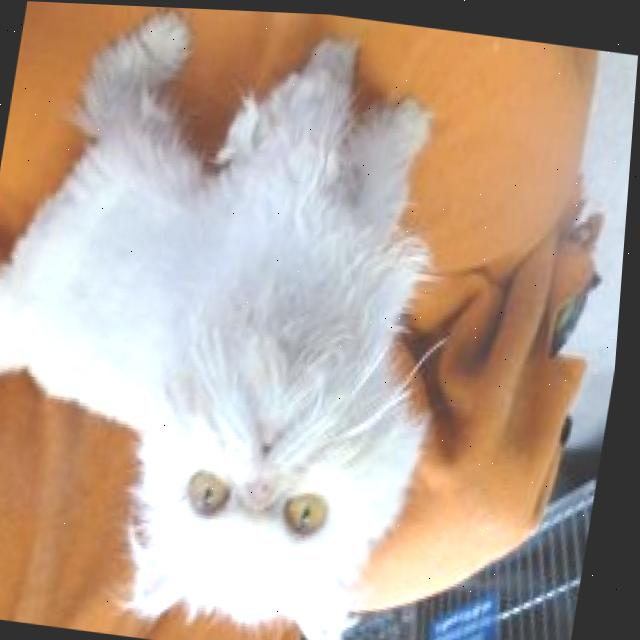Persian: (0, 0, 490, 640)
